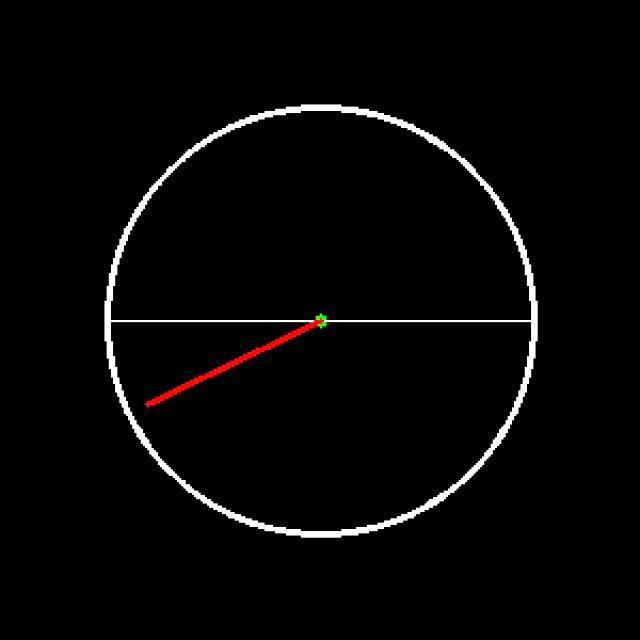Needle_Tip: (135, 391, 173, 416)
Needle_base: (298, 296, 342, 344)
